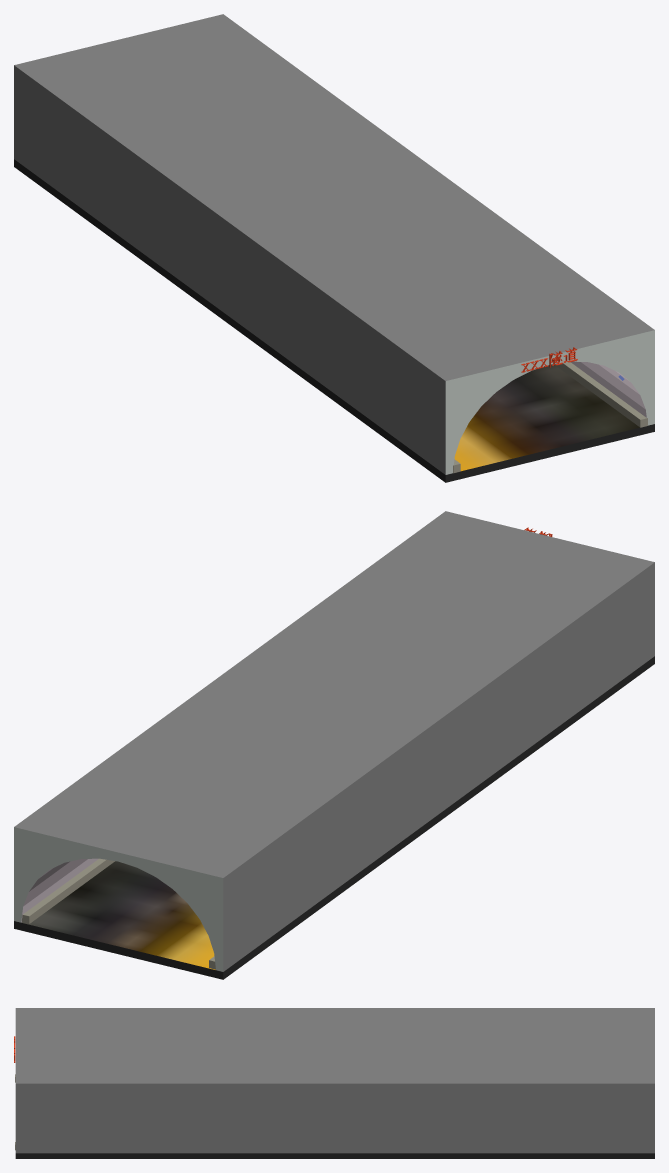
The model's file is suidao.glb.
3 renders of one model, top to bottom at view 1: azimuth 30°, elevation 25°; view 2: azimuth 150°, elevation 25°; view 3: azimuth 270°, elevation 25°, orthographic. The views are drawn at different scales.
Visible parts, largest first — view 1: suidao, floor, road2; view 2: suidao, floor, road2; view 3: suidao, floor.
Boxes of the visible parts, x1=… form: suidao: x1=14, y1=14, x2=654, y2=474; floor: x1=14, y1=159, x2=654, y2=482; road2: x1=555, y1=362, x2=647, y2=427; suidao: x1=14, y1=511, x2=654, y2=971; floor: x1=14, y1=656, x2=654, y2=979; road2: x1=22, y1=858, x2=114, y2=923; suidao: x1=15, y1=1008, x2=654, y2=1153; floor: x1=15, y1=1153, x2=654, y2=1158.
Size of the model in its own units: 14 by 6.69 by 50.12.
8 materials, 1 textured.
